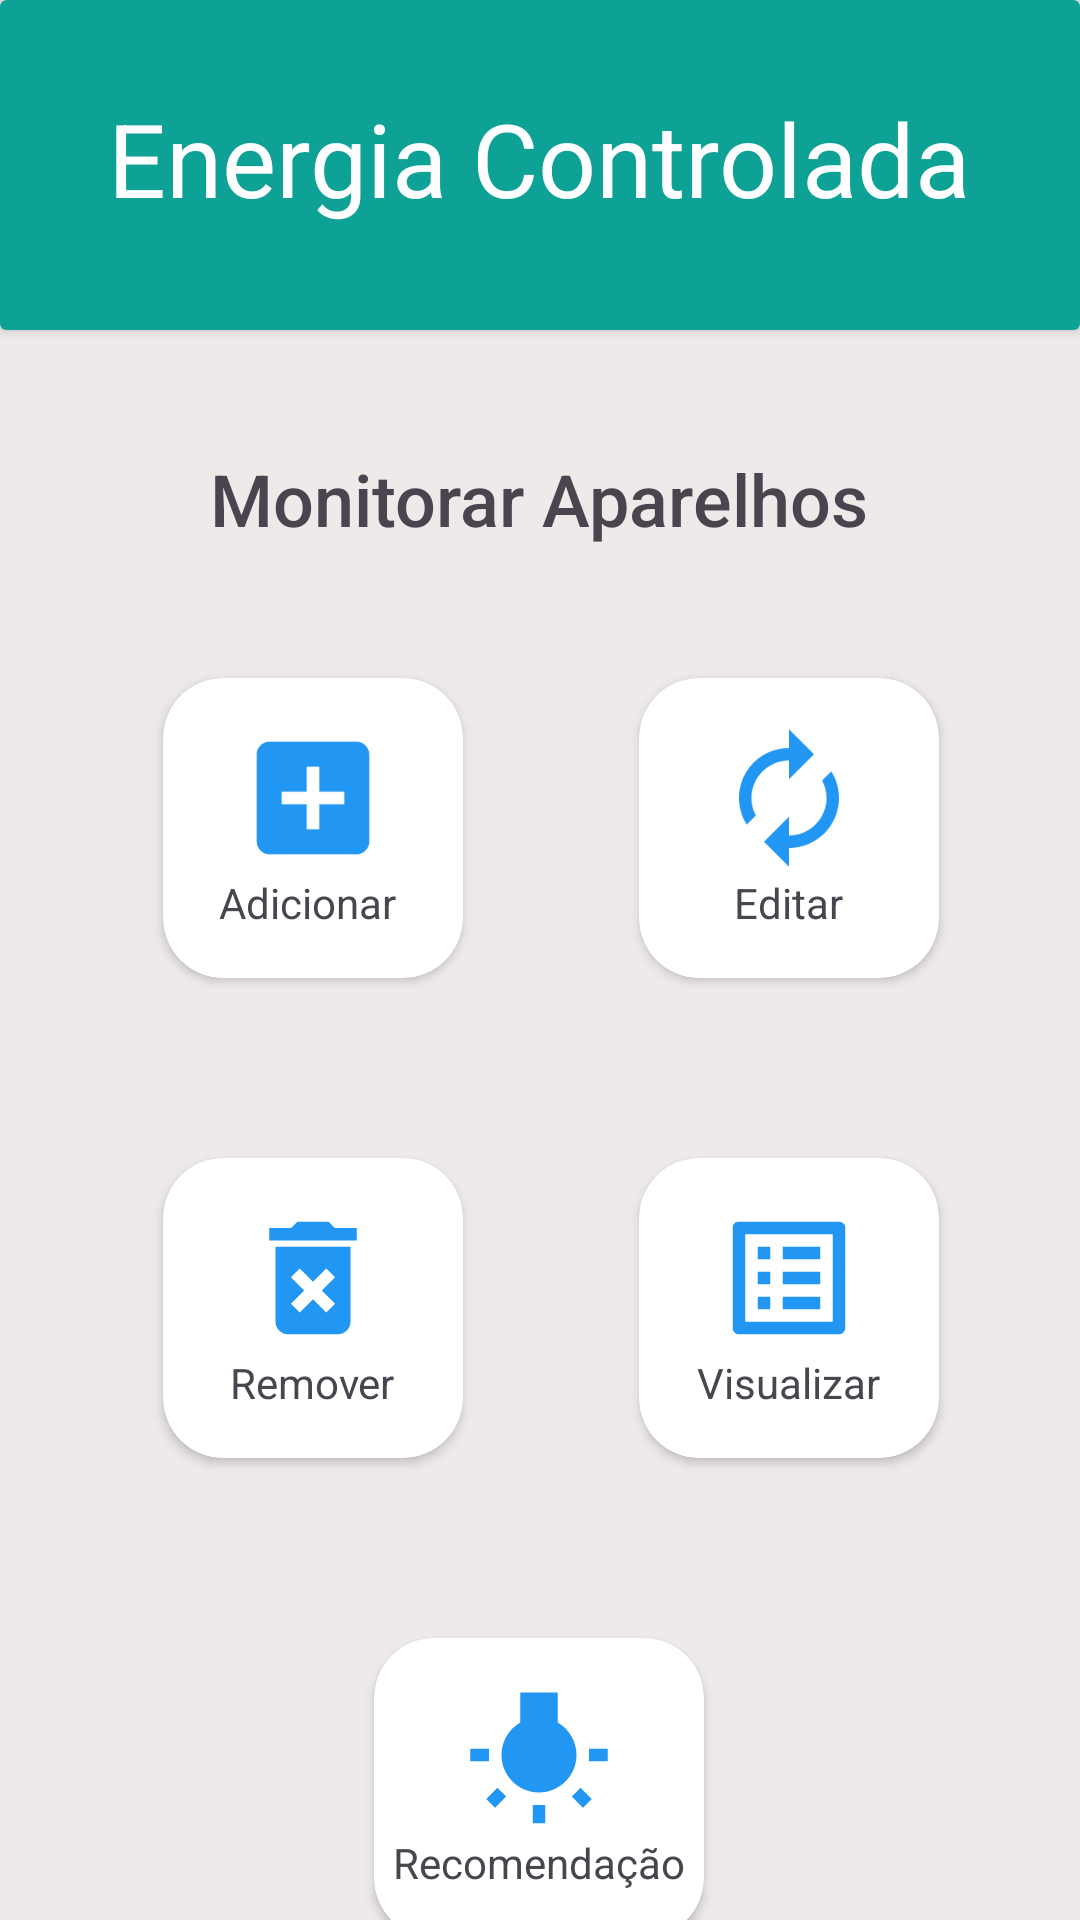

Named icons in this screenshot (1080px×1920px) and their bounding boxes, rect(x1, y1, x2, y2):
autorenew: rect(739, 729, 839, 867)
lampada: rect(470, 1692, 608, 1824)
list: rect(732, 1221, 846, 1335)
